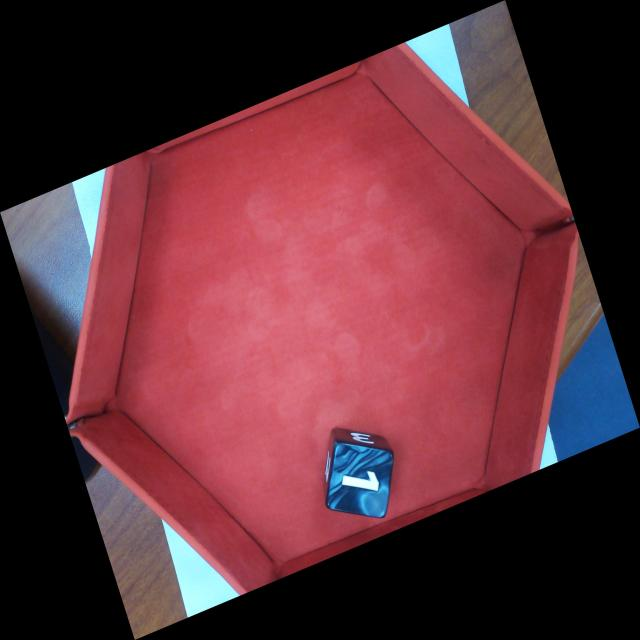dice: (323, 440, 395, 523)
